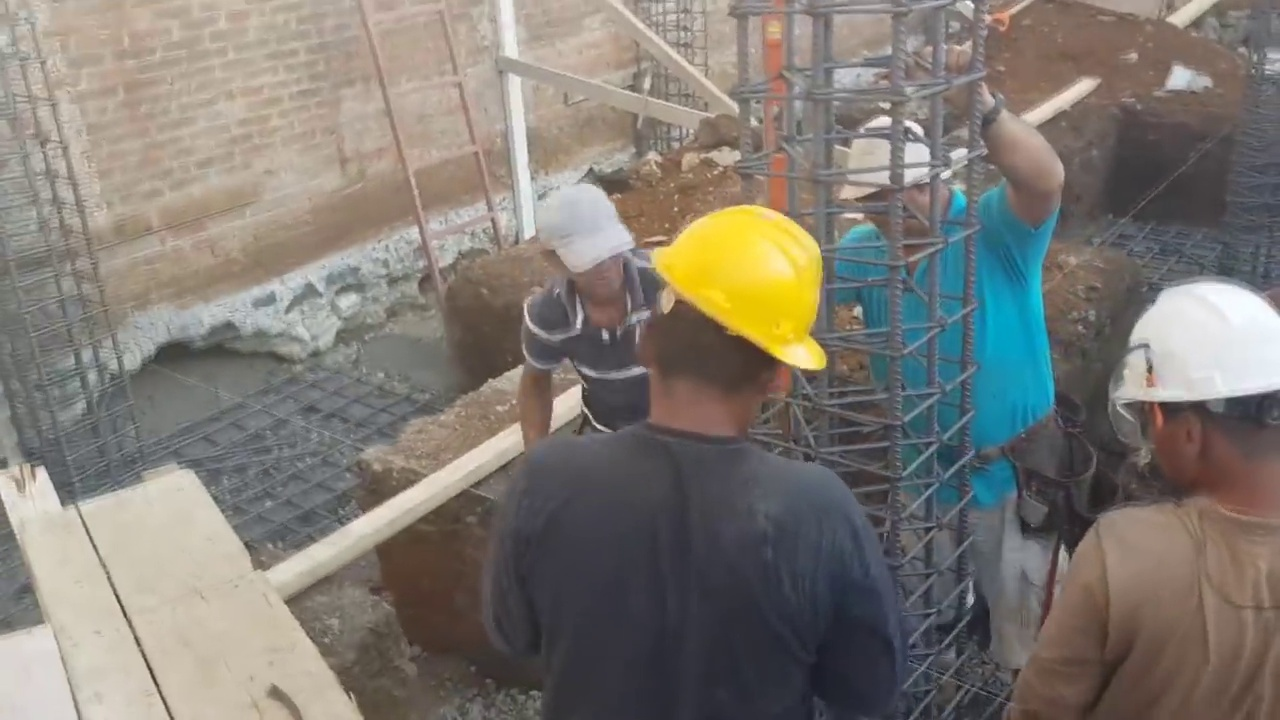helmet: (651, 201, 830, 374), (1112, 284, 1280, 408)
helmet-off: (842, 117, 960, 258), (536, 183, 643, 322)
helmet-on: (645, 194, 829, 442), (1108, 276, 1280, 527)
person: (477, 196, 908, 717), (822, 51, 1070, 678), (1006, 273, 1276, 719), (514, 182, 648, 452)
